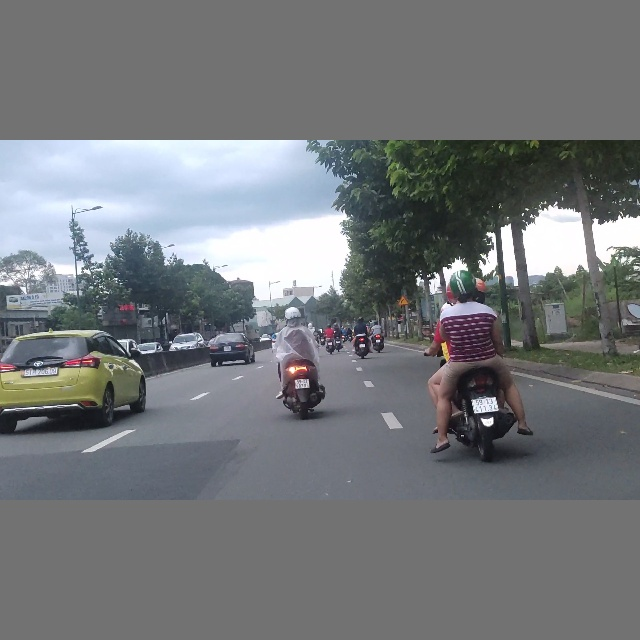W.201b: (397, 295, 409, 305)
